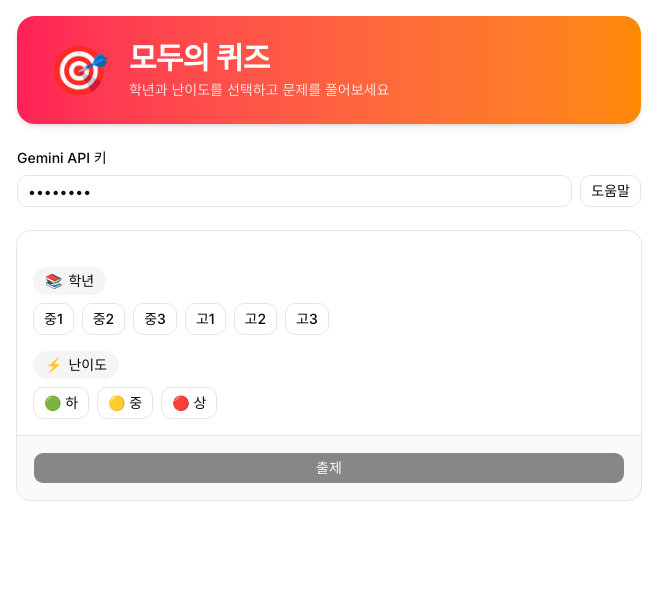
Test: QuizPage › 출제 API 실패 → 에러 메시지 + 다시 시도 버튼
The image size is (659, 609).
Click the radio button labelled "중2" at (103, 319), box x1=82 y1=303 x2=125 y2=335
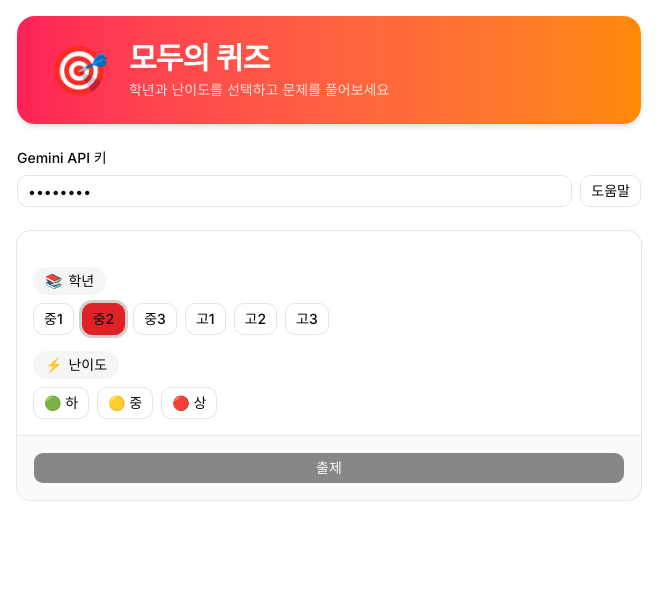
Click the radio button labelled "중" at (125, 403), box x1=97 y1=387 x2=153 y2=419
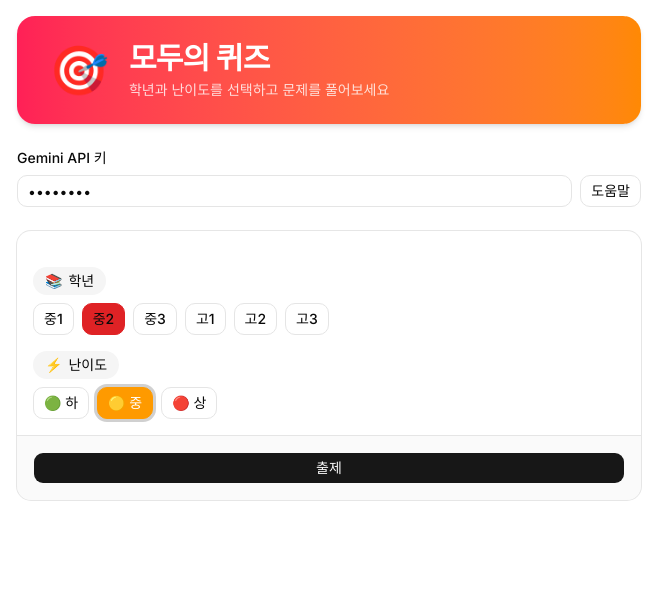
Click the button "출제" at (329, 468), box x1=33 y1=452 x2=625 y2=484
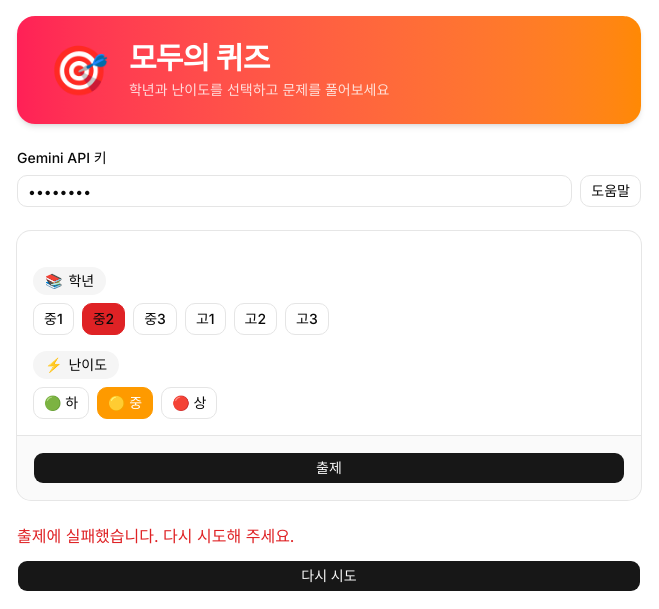
Expected: the text "출제에 실패했습니다. 다시 시도해 주세요." is shown, x1=17 y1=526 x2=294 y2=546
Expected: the button "다시 시도" is shown, x1=17 y1=560 x2=641 y2=592
